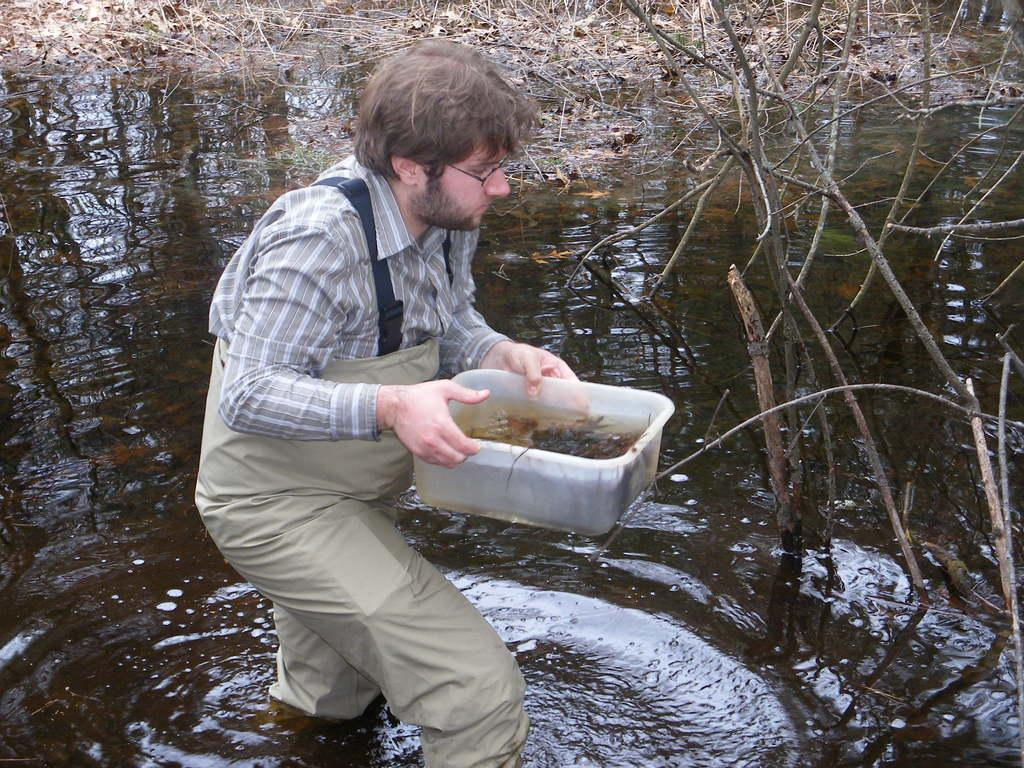Pessoa: (196, 40, 574, 767)
